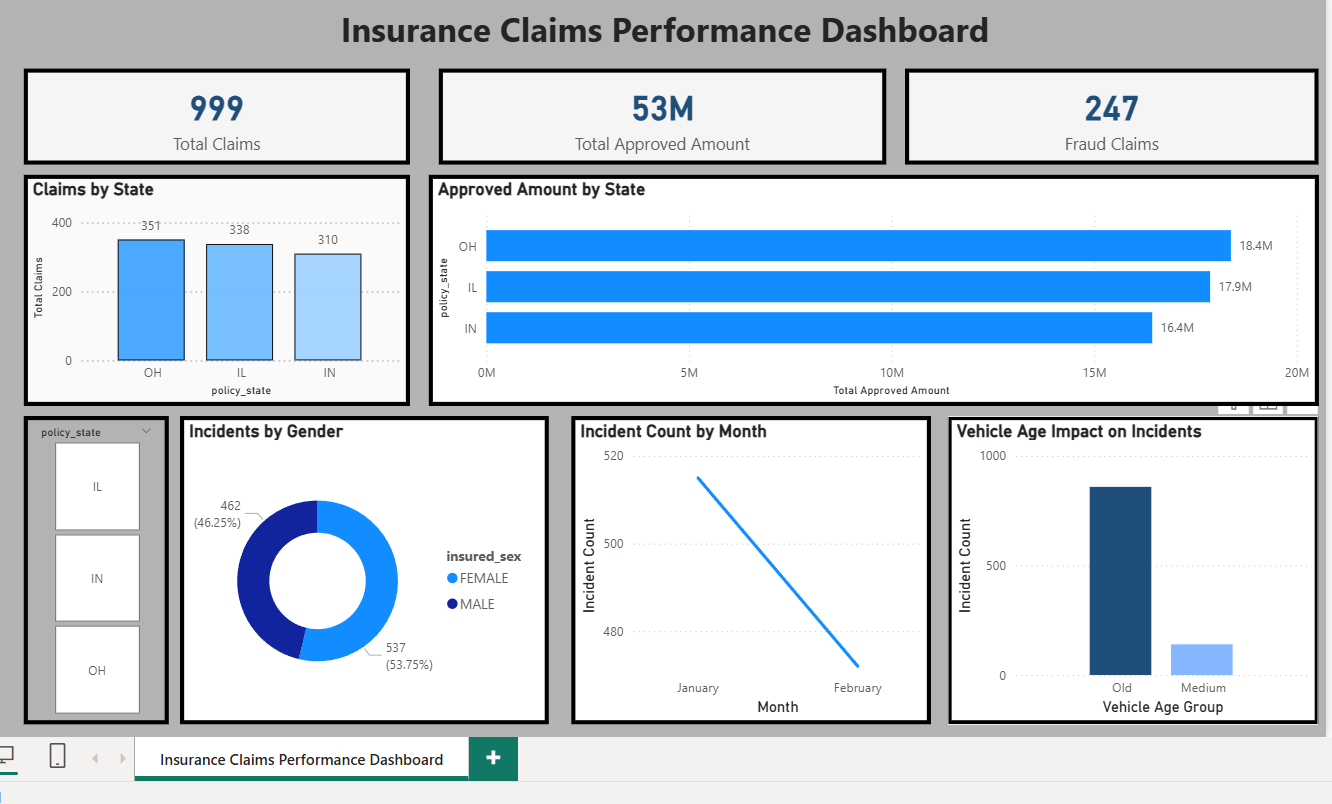

What the dashboard file says about the page in this screenshot:
{"tool":"powerbi","page":{"name":"Insurance Claims Performance Dashboard","canvas":[1280,720],"ordinal":0},"visuals":[{"type":"card","fields":{"Values":["insurance.Total Claims"]},"box":[22.9,74.8,372.8,92.9],"z":0},{"type":"card","fields":{"Values":["insurance.Total Approved Amount"]},"box":[423.5,74.8,431.9,92.9],"z":1000},{"type":"card","fields":{"Values":["insurance.Fraud Claims"]},"box":[873.5,74.8,399.3,92.9],"z":2000},{"type":"donutChart","title":"Incidents by Gender","fields":{"Category":["insurance.insured_sex"],"Y":["insurance.Incident Count"]},"box":[173.7,410.2,355.9,298],"z":3000},{"type":"lineChart","fields":{"Y":["insurance.Incident Count"],"Category":["insurance.incident_date.Variation.Date Hierarchy.Month"]},"box":[551.3,410.2,347.5,298],"z":4000},{"type":"clusteredColumnChart","title":"Vehicle Age Impact on Incidents","fields":{"Category":["insurance.Vehicle Age Group"],"Y":["insurance.Incident Count"]},"box":[914.5,410.2,358.3,298],"z":5000},{"type":"textbox","box":[136.3,9.7,1011,55.5],"z":6000},{"type":"clusteredColumnChart","title":"Claims by State","fields":{"Category":["insurance.policy_state"],"Y":["insurance.Total Claims"]},"box":[22.9,177.3,372.8,223.2],"z":7000},{"type":"clusteredBarChart","title":"Approved Amount by State","fields":{"Category":["insurance.policy_state"],"Y":["insurance.Total Approved Amount"]},"box":[413.8,177.3,859,223.2],"z":8000},{"type":"slicer","fields":{"Values":["insurance.policy_state"]},"box":[22.9,410.2,139.9,298],"z":9000}]}

Visuals, with their boxes in screenshot pixels (x1, y1, x2, y2):
card - insurance.Total Claims: x1=27 y1=70 x2=410 y2=165
card - insurance.Total Approved Amount: x1=438 y1=70 x2=881 y2=165
card - insurance.Fraud Claims: x1=900 y1=70 x2=1310 y2=165
"Incidents by Gender" donutChart: x1=182 y1=414 x2=547 y2=720
lineChart - insurance.Incident Count x insurance.incident_date.Variation.Date Hierarchy.Month: x1=569 y1=414 x2=926 y2=720
"Vehicle Age Impact on Incidents" clusteredColumnChart: x1=942 y1=414 x2=1310 y2=720
textbox: x1=143 y1=3 x2=1181 y2=60
"Claims by State" clusteredColumnChart: x1=27 y1=175 x2=410 y2=404
"Approved Amount by State" clusteredBarChart: x1=428 y1=175 x2=1310 y2=404
slicer - insurance.policy_state: x1=27 y1=414 x2=171 y2=720
